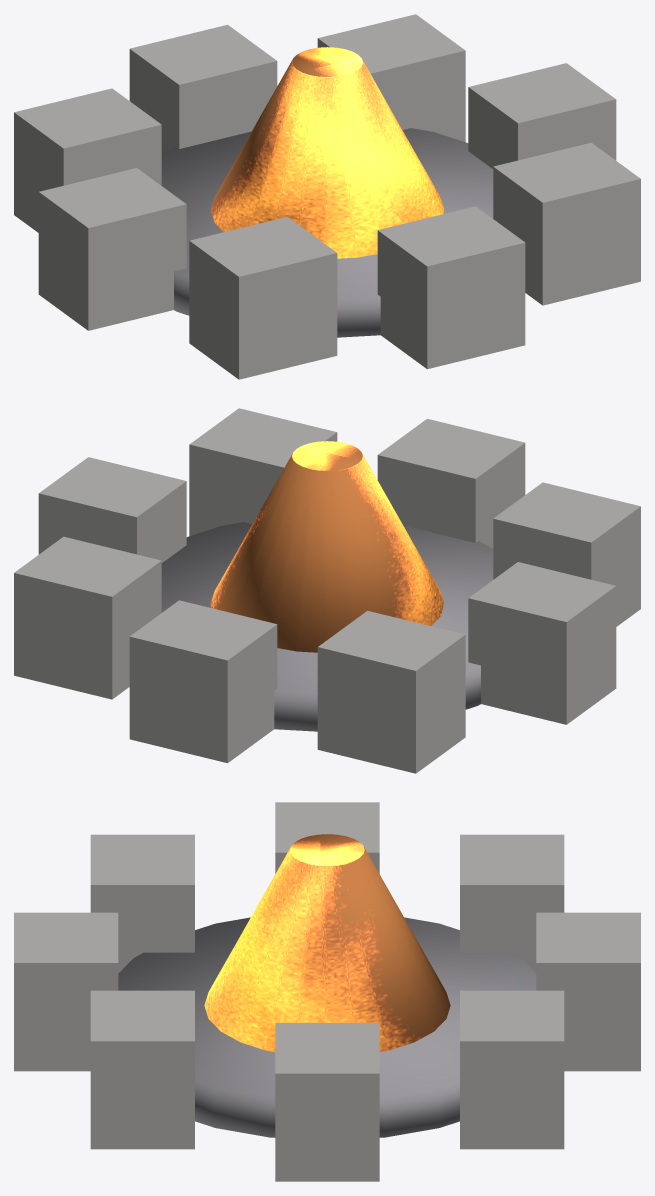
File: firepit.glb
The picture shows the model from 3 angles, top to bottom: view 1: azimuth 30°, elevation 25°; view 2: azimuth 150°, elevation 25°; view 3: azimuth 270°, elevation 25°; orthographic projection. The views are drawn at different scales.
Parts seen in each view (by area): view 1: Cylinder; view 2: Cylinder; view 3: Cylinder.
Boxes of the visible parts, x1,y1,x2,y2 form: Cylinder: [14, 14, 640, 379]; Cylinder: [14, 408, 640, 773]; Cylinder: [14, 802, 640, 1181].
Size of the model in its own units: 0.86 by 0.29 by 0.84.
